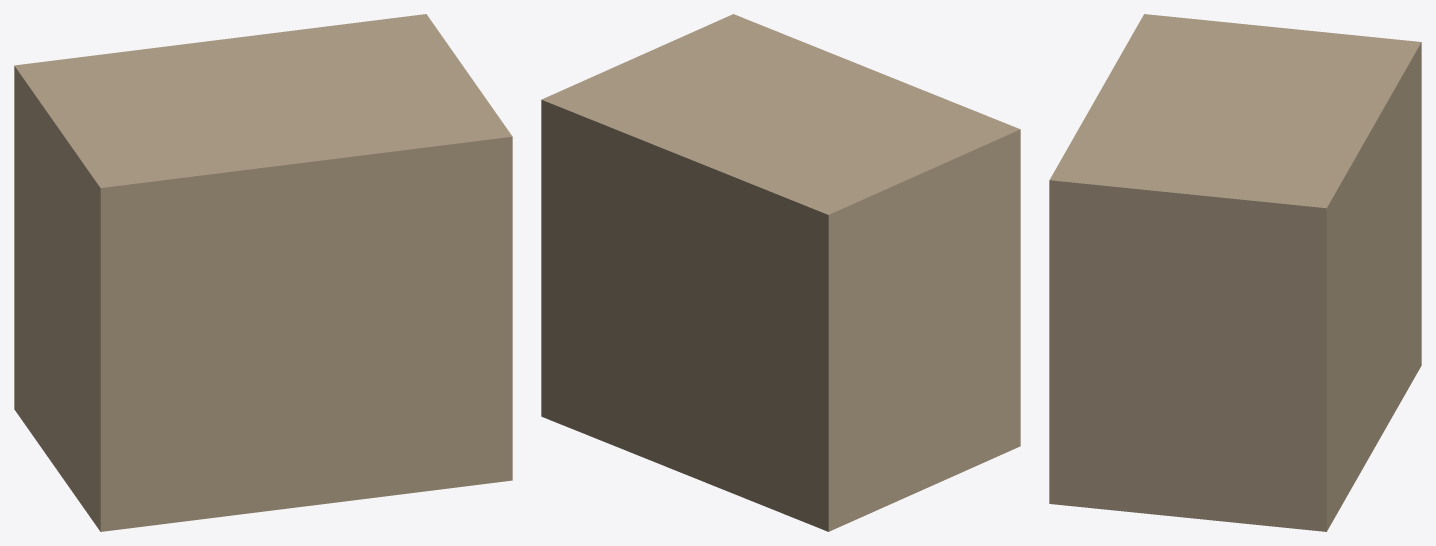
File: bld_163484348.dae
The picture shows the model from 3 angles, left to right: view 1: azimuth 30°, elevation 25°; view 2: azimuth 150°, elevation 25°; view 3: azimuth 270°, elevation 25°; orthographic projection. The views are drawn at different scales.
Parts seen in each view (by area): view 1: bld_163484348; view 2: bld_163484348; view 3: bld_163484348.
Part boxes in pixels (bbox=[...]): bld_163484348: bbox=[14, 14, 512, 531]; bld_163484348: bbox=[541, 14, 1020, 531]; bld_163484348: bbox=[1049, 14, 1421, 531].
Size of the model in its own units: 10.3 by 8.33 by 8.
